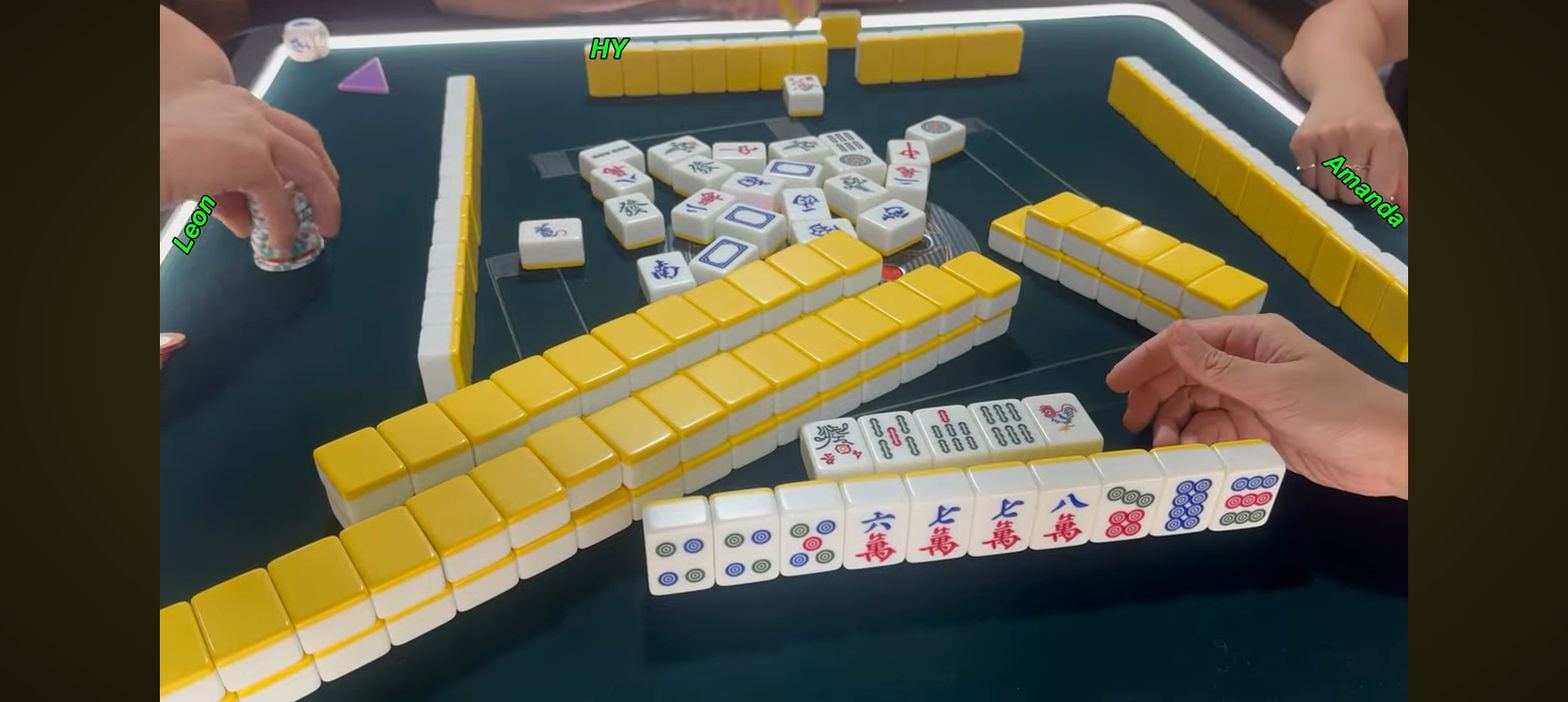TILE: (647, 530, 715, 593), (1218, 471, 1287, 532), (715, 521, 778, 585), (778, 515, 844, 574), (845, 508, 909, 568), (974, 493, 1039, 552), (1038, 489, 1100, 549), (911, 502, 972, 562), (800, 418, 868, 470), (1100, 482, 1160, 538), (864, 411, 926, 465), (977, 399, 1039, 453), (921, 404, 980, 460), (1036, 392, 1100, 443), (1159, 477, 1217, 533)
